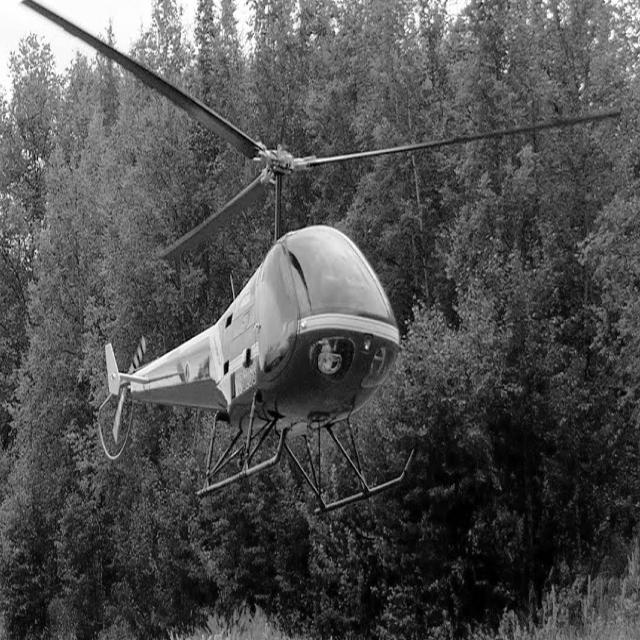helicopter: (24, 2, 621, 504)
